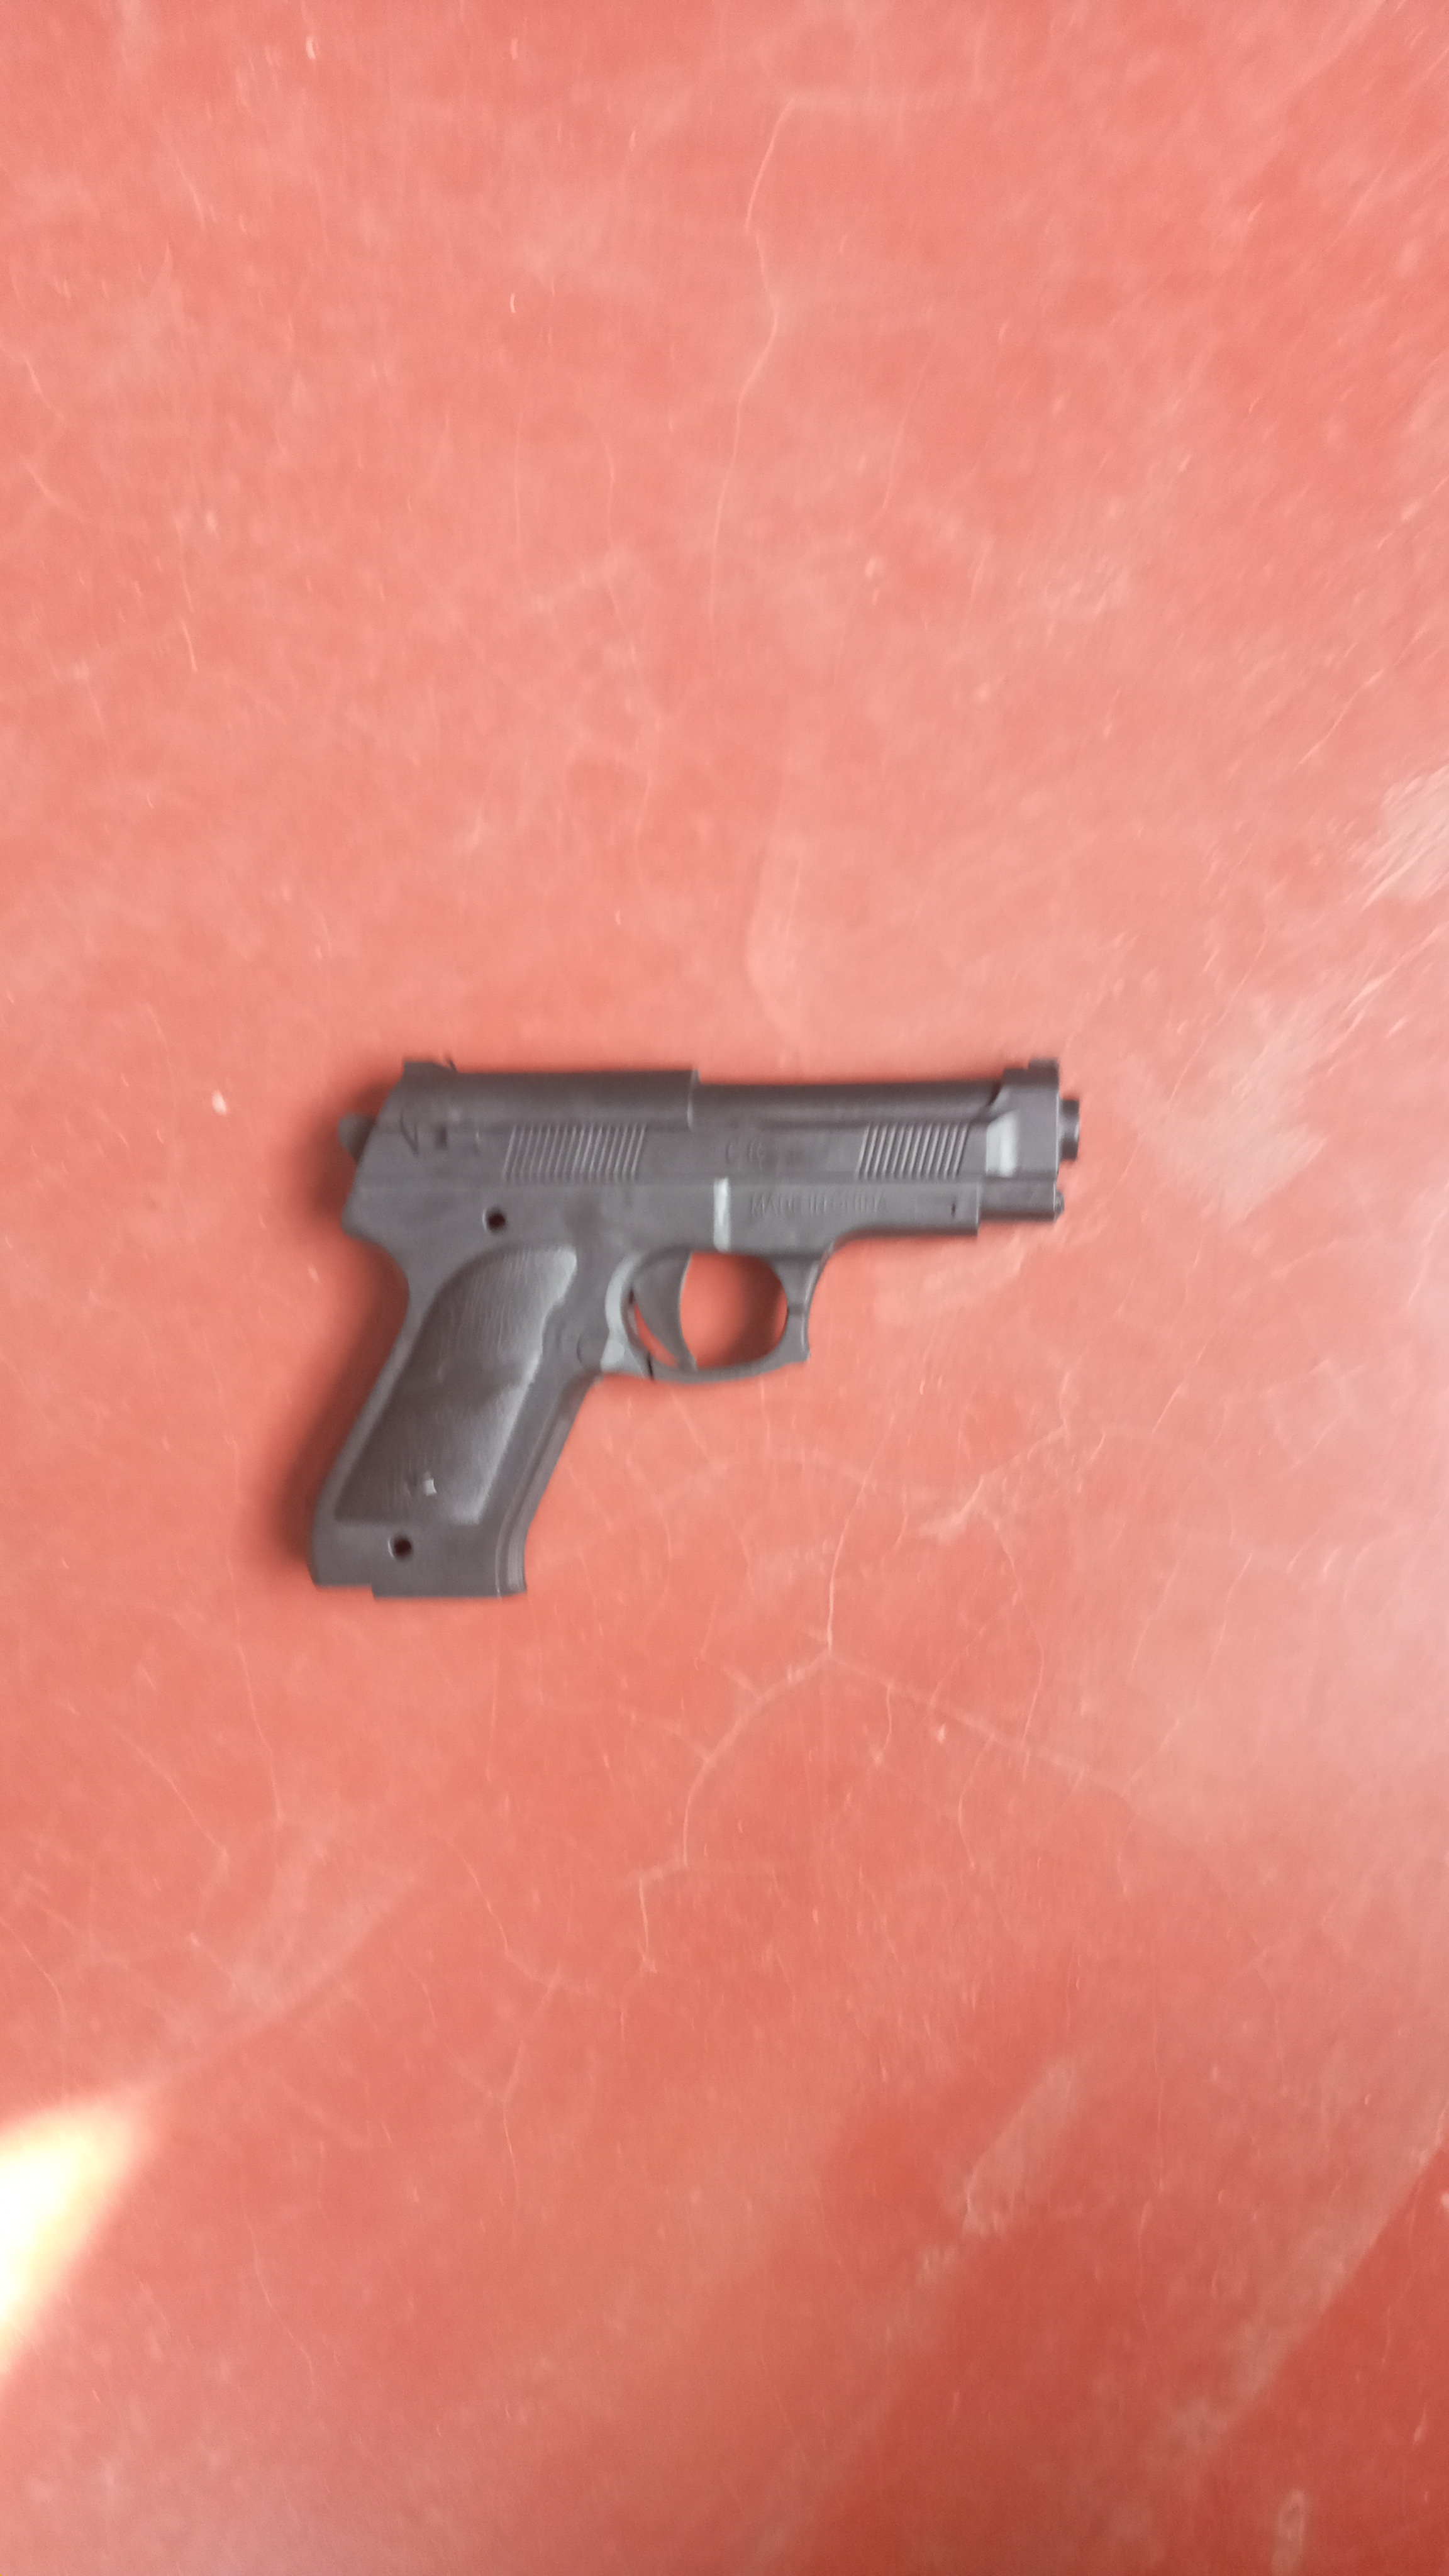Arma: (313, 1049, 1083, 1398)
